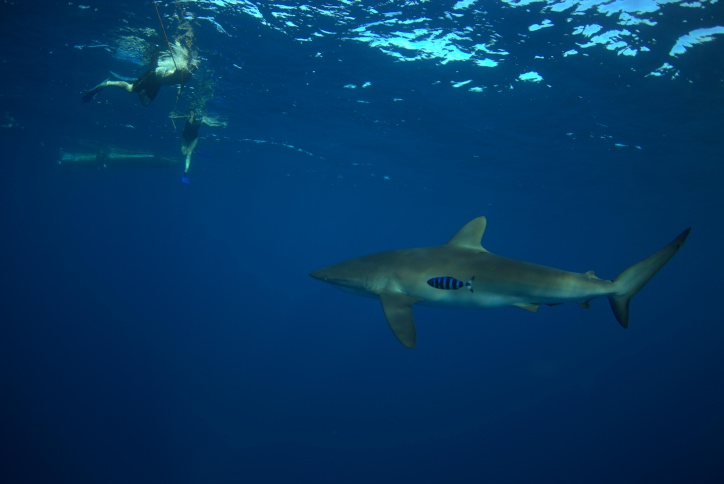Sedoso: (297, 207, 697, 370)
